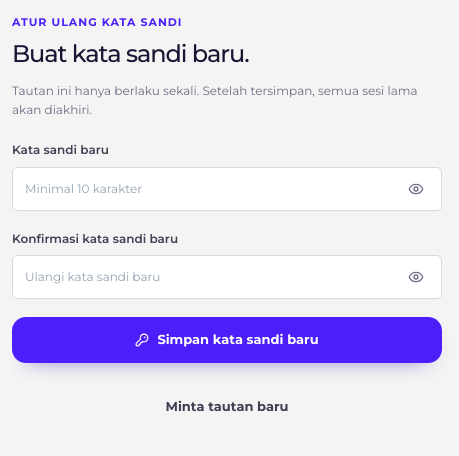
Test: halaman atur ulang kata sandi › menolak kata sandi yang terlalu pendek sebelum menghubungi backend
This screenshot has width=459, height=456.
Step 1. Type "pendek" into the password field labelled "Kata sandi baru" → (227, 189), box [12,167,442,211]
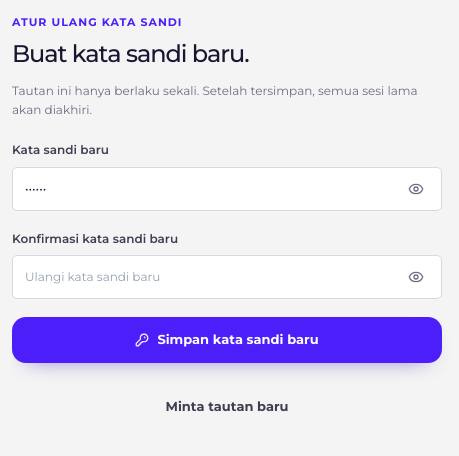
Step 2. Type "pendek" into the password field labelled "Konfirmasi kata sandi baru" → (227, 277), box [12,255,442,299]
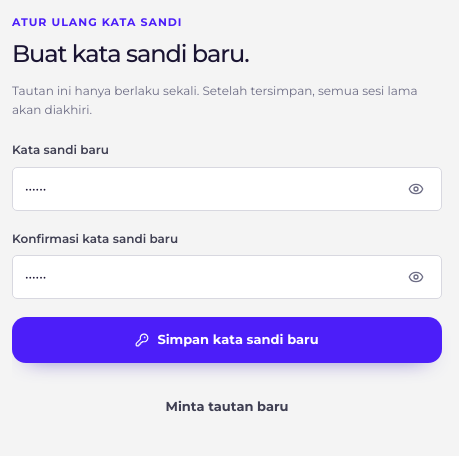
Step 3. Click the button "Simpan kata sandi baru" → (227, 340), box [12,317,442,363]
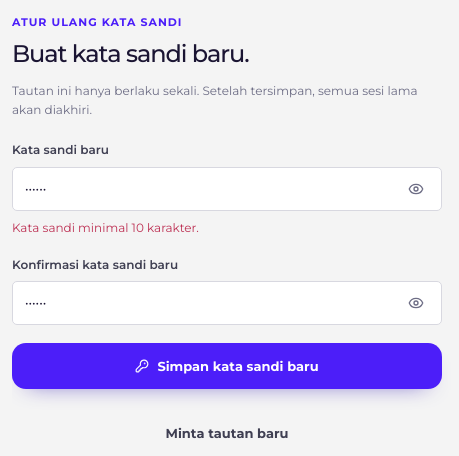
Expected: the message "Kata sandi minimal 10 karakter." is shown, [12,220,199,235]
